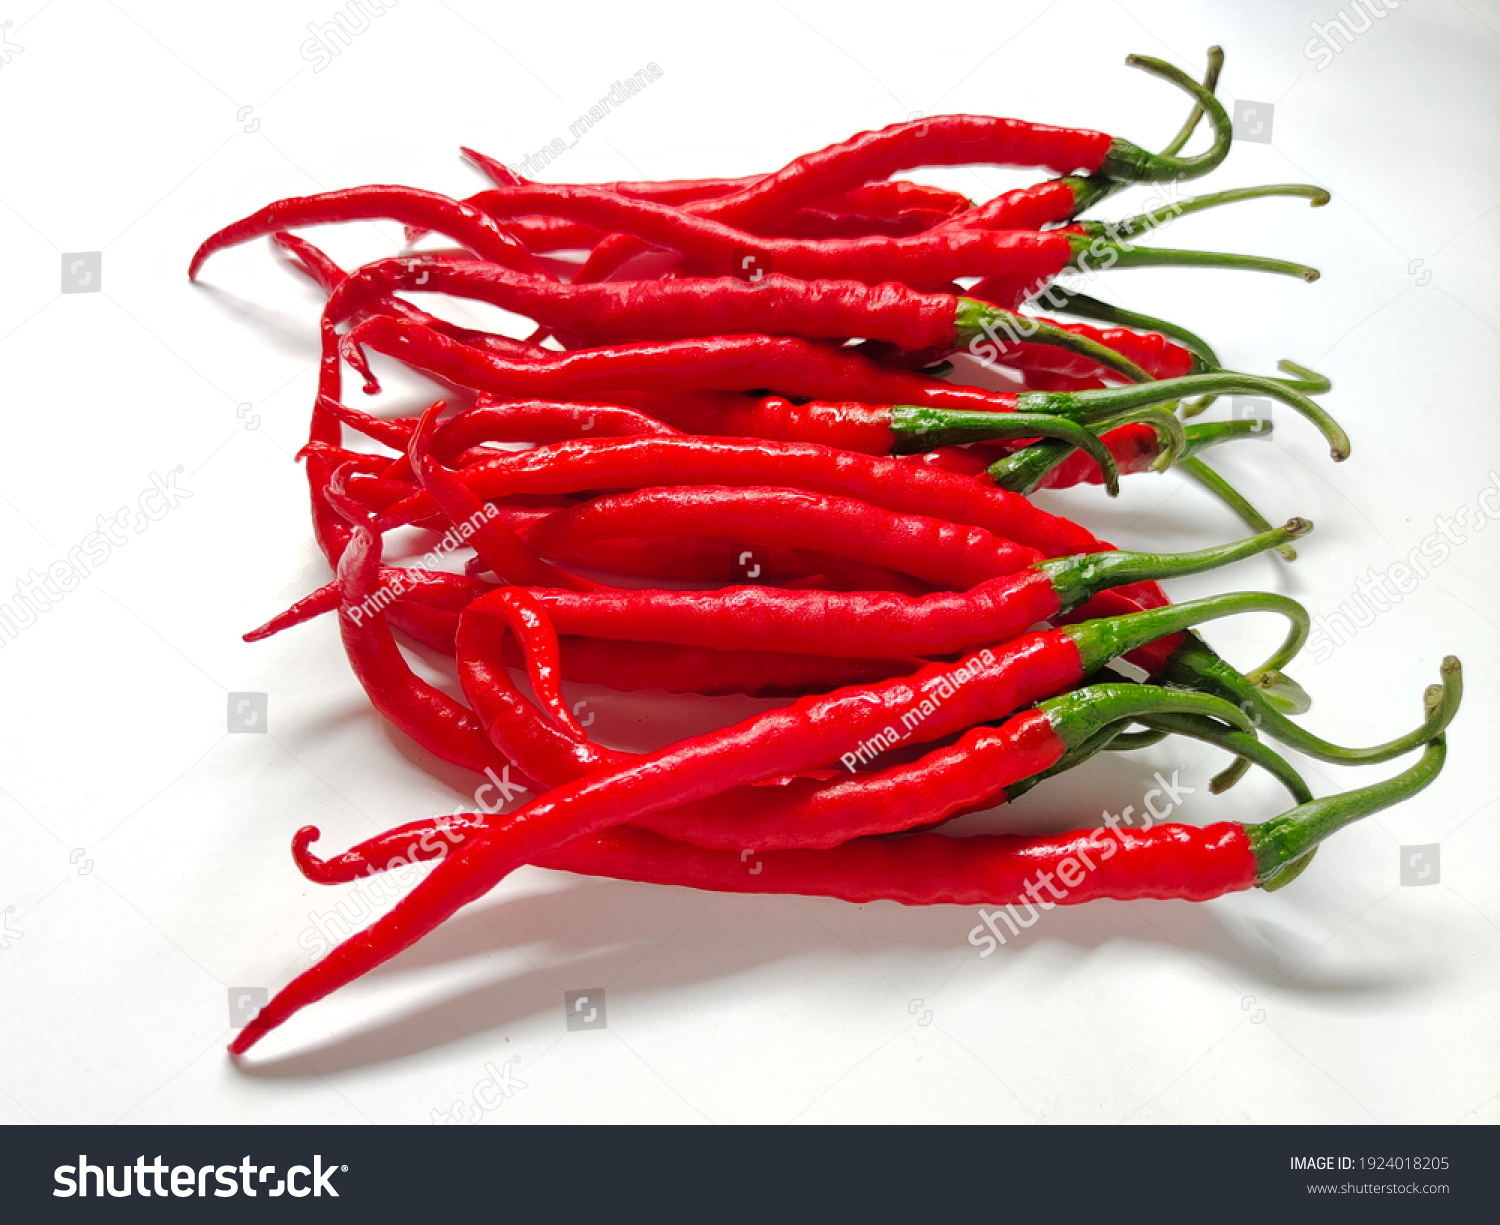Cabai: (196, 95, 1448, 1059)
